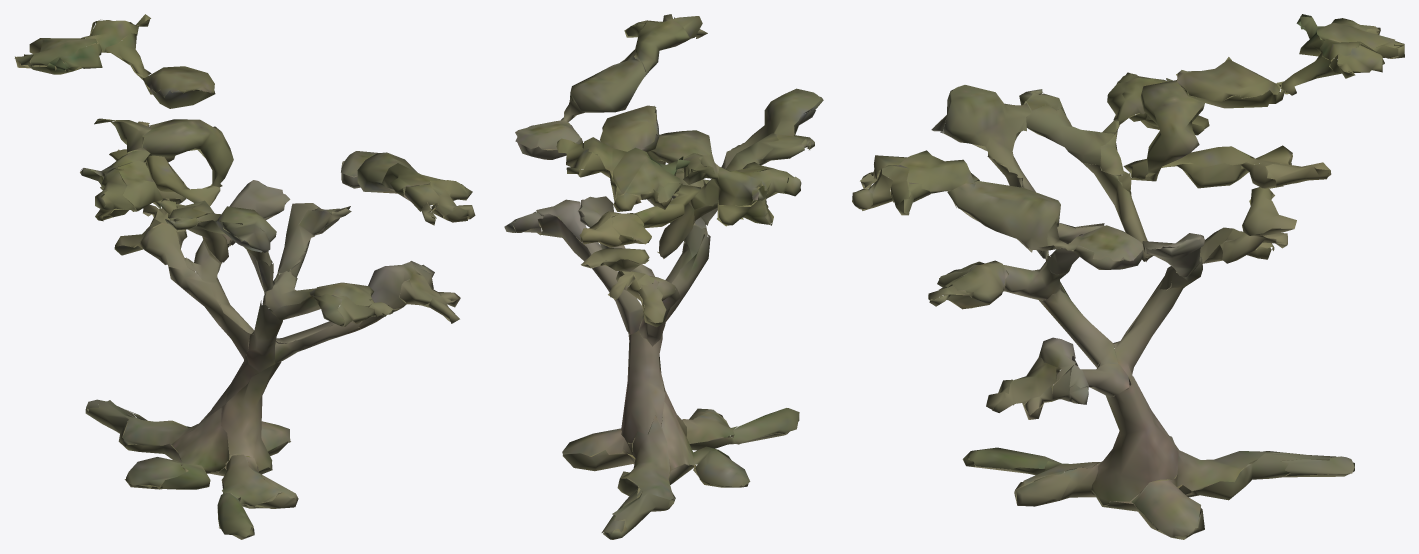
File: woodland_bush_01_lod1.glb
The picture shows the model from 3 angles, left to right: view 1: azimuth 30°, elevation 25°; view 2: azimuth 150°, elevation 25°; view 3: azimuth 270°, elevation 25°; orthographic projection. The views are drawn at different scales.
Parts seen in each view (by area): view 1: candidate_011_lod1; view 2: candidate_011_lod1; view 3: candidate_011_lod1.
Boxes of the visible parts, x1=… form: candidate_011_lod1: x1=14, y1=14, x2=475, y2=539; candidate_011_lod1: x1=504, y1=14, x2=823, y2=539; candidate_011_lod1: x1=852, y1=14, x2=1404, y2=539.
Size of the model in its own units: 0.0928 by 0.1098 by 0.1232.
Materials: 1 (1 with a texture image).
